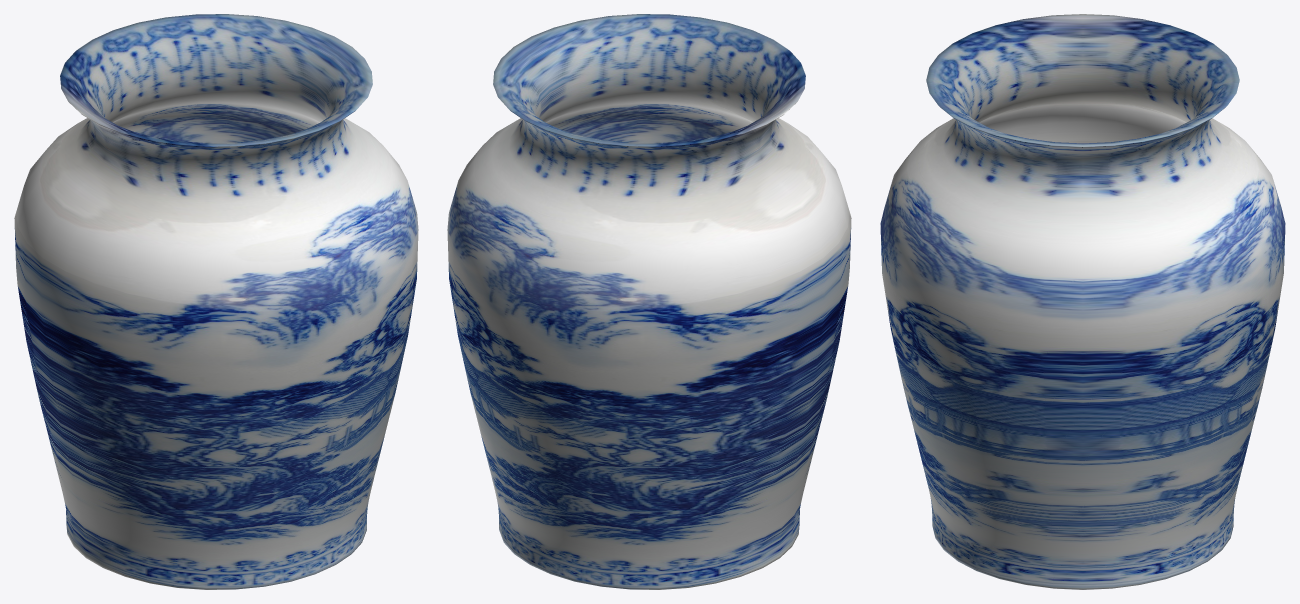
File: Vase.fbx
The picture shows the model from 3 angles, left to right: view 1: azimuth 30°, elevation 25°; view 2: azimuth 150°, elevation 25°; view 3: azimuth 270°, elevation 25°; orthographic projection.
Visible parts, largest first — view 1: Vase; view 2: Vase; view 3: Vase.
Part boxes in pixels (bbox=[...]): Vase: bbox=[14, 14, 418, 589]; Vase: bbox=[447, 14, 851, 589]; Vase: bbox=[880, 14, 1285, 589].
Bounding box in the file's own units: 0.2615 × 0.3187 × 0.2615.
Materials: 1 (1 with a texture image).
